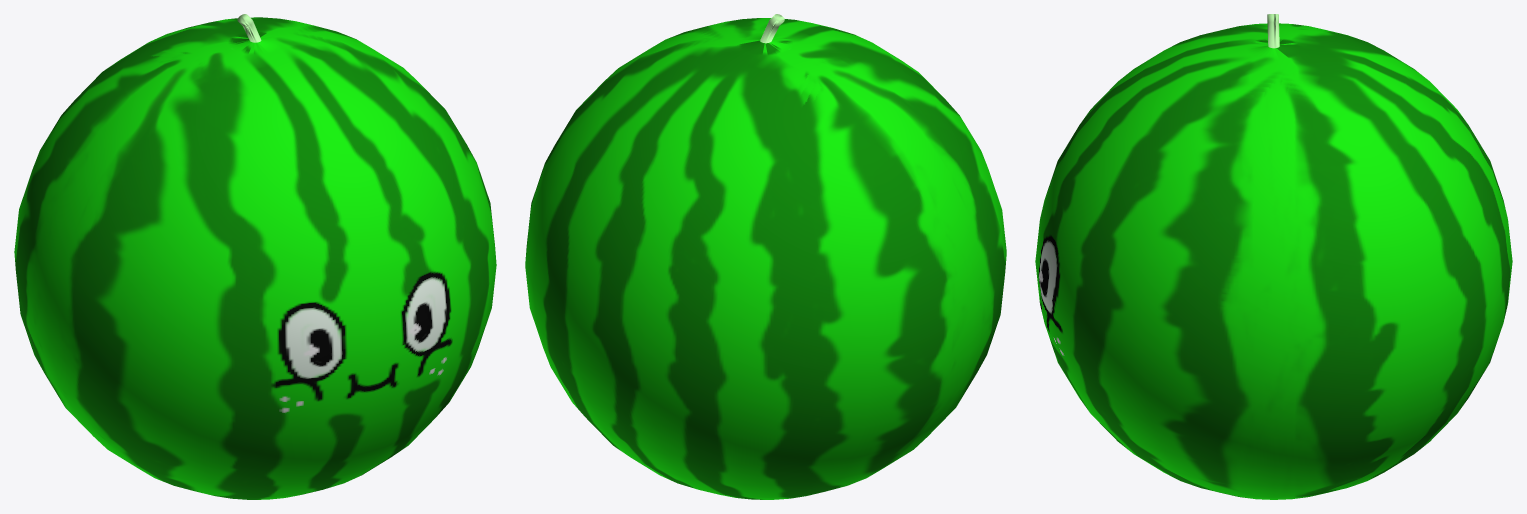
The model's file is subak.fbx.
3 views of the same model, side by side, from view 1: azimuth 30°, elevation 25°; view 2: azimuth 150°, elevation 25°; view 3: azimuth 270°, elevation 25° (orthographic).
Visible parts, largest first — view 1: subak; view 2: subak; view 3: subak.
Part boxes in pixels (x1=…): subak: x1=14, y1=14, x2=496, y2=499; subak: x1=525, y1=14, x2=1006, y2=499; subak: x1=1035, y1=14, x2=1512, y2=499.
Bounding box in the file's own units: 80.98 × 86.06 × 80.98.
